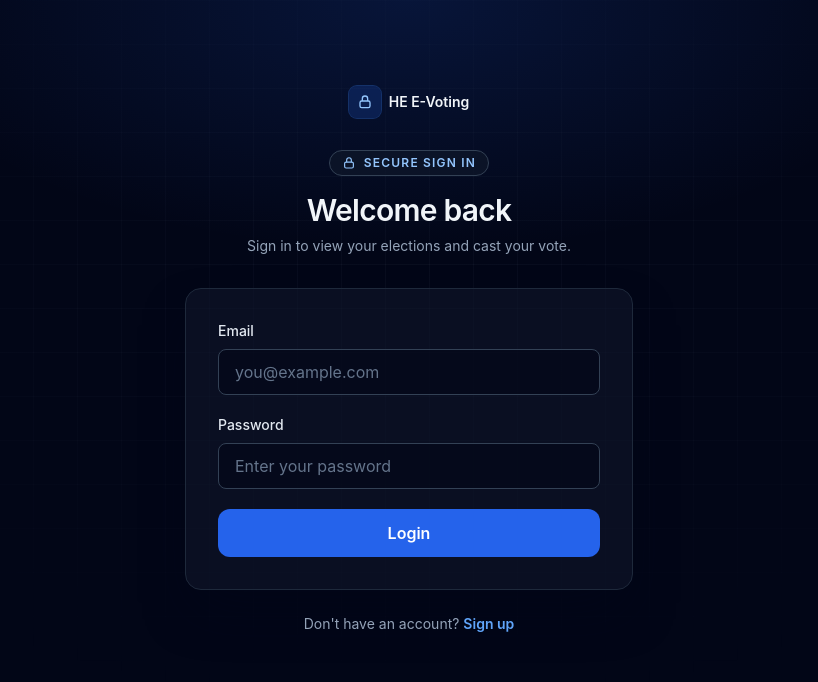
Login rejects incomplete credentials › shows the same message for a blank password
The image size is (818, 682).
Type "x@test.com" into the field labelled "Email".
click(409, 372); type("x@test.com")  # box x1=218 y1=349 x2=600 y2=395
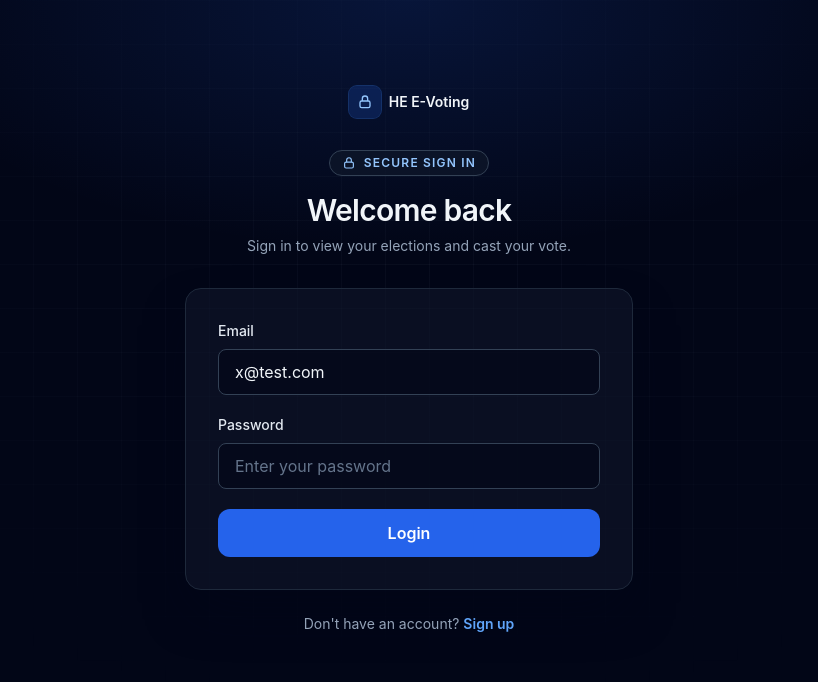
Click the button "Login".
click(409, 533)  # box x1=218 y1=509 x2=600 y2=557
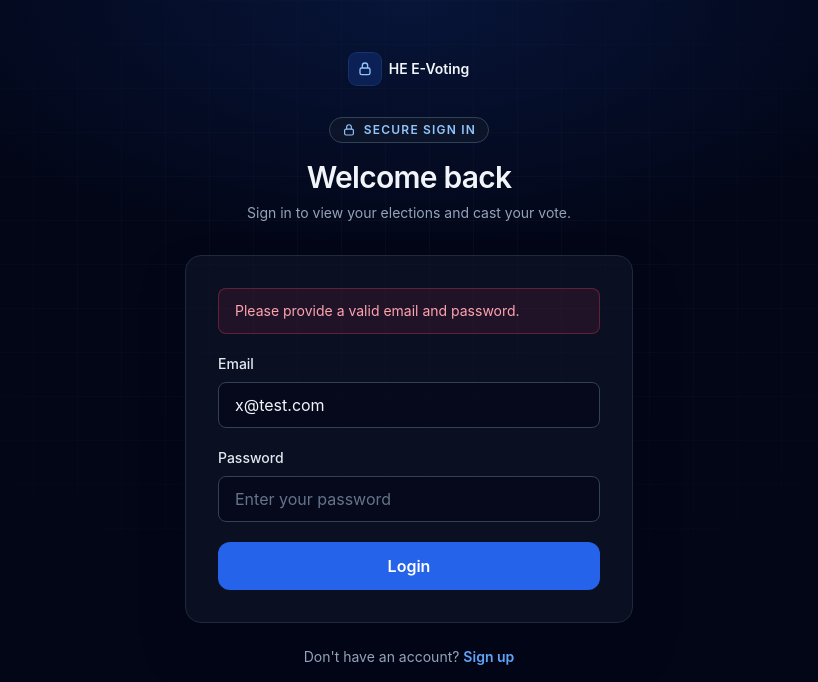
expect the message reads "Please provide a valid email and password.": met, box x1=235 y1=302 x2=520 y2=319
